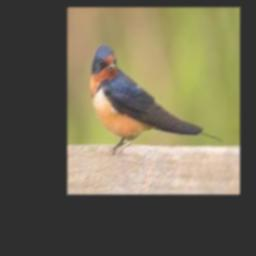Swallow: (89, 45, 223, 156)
